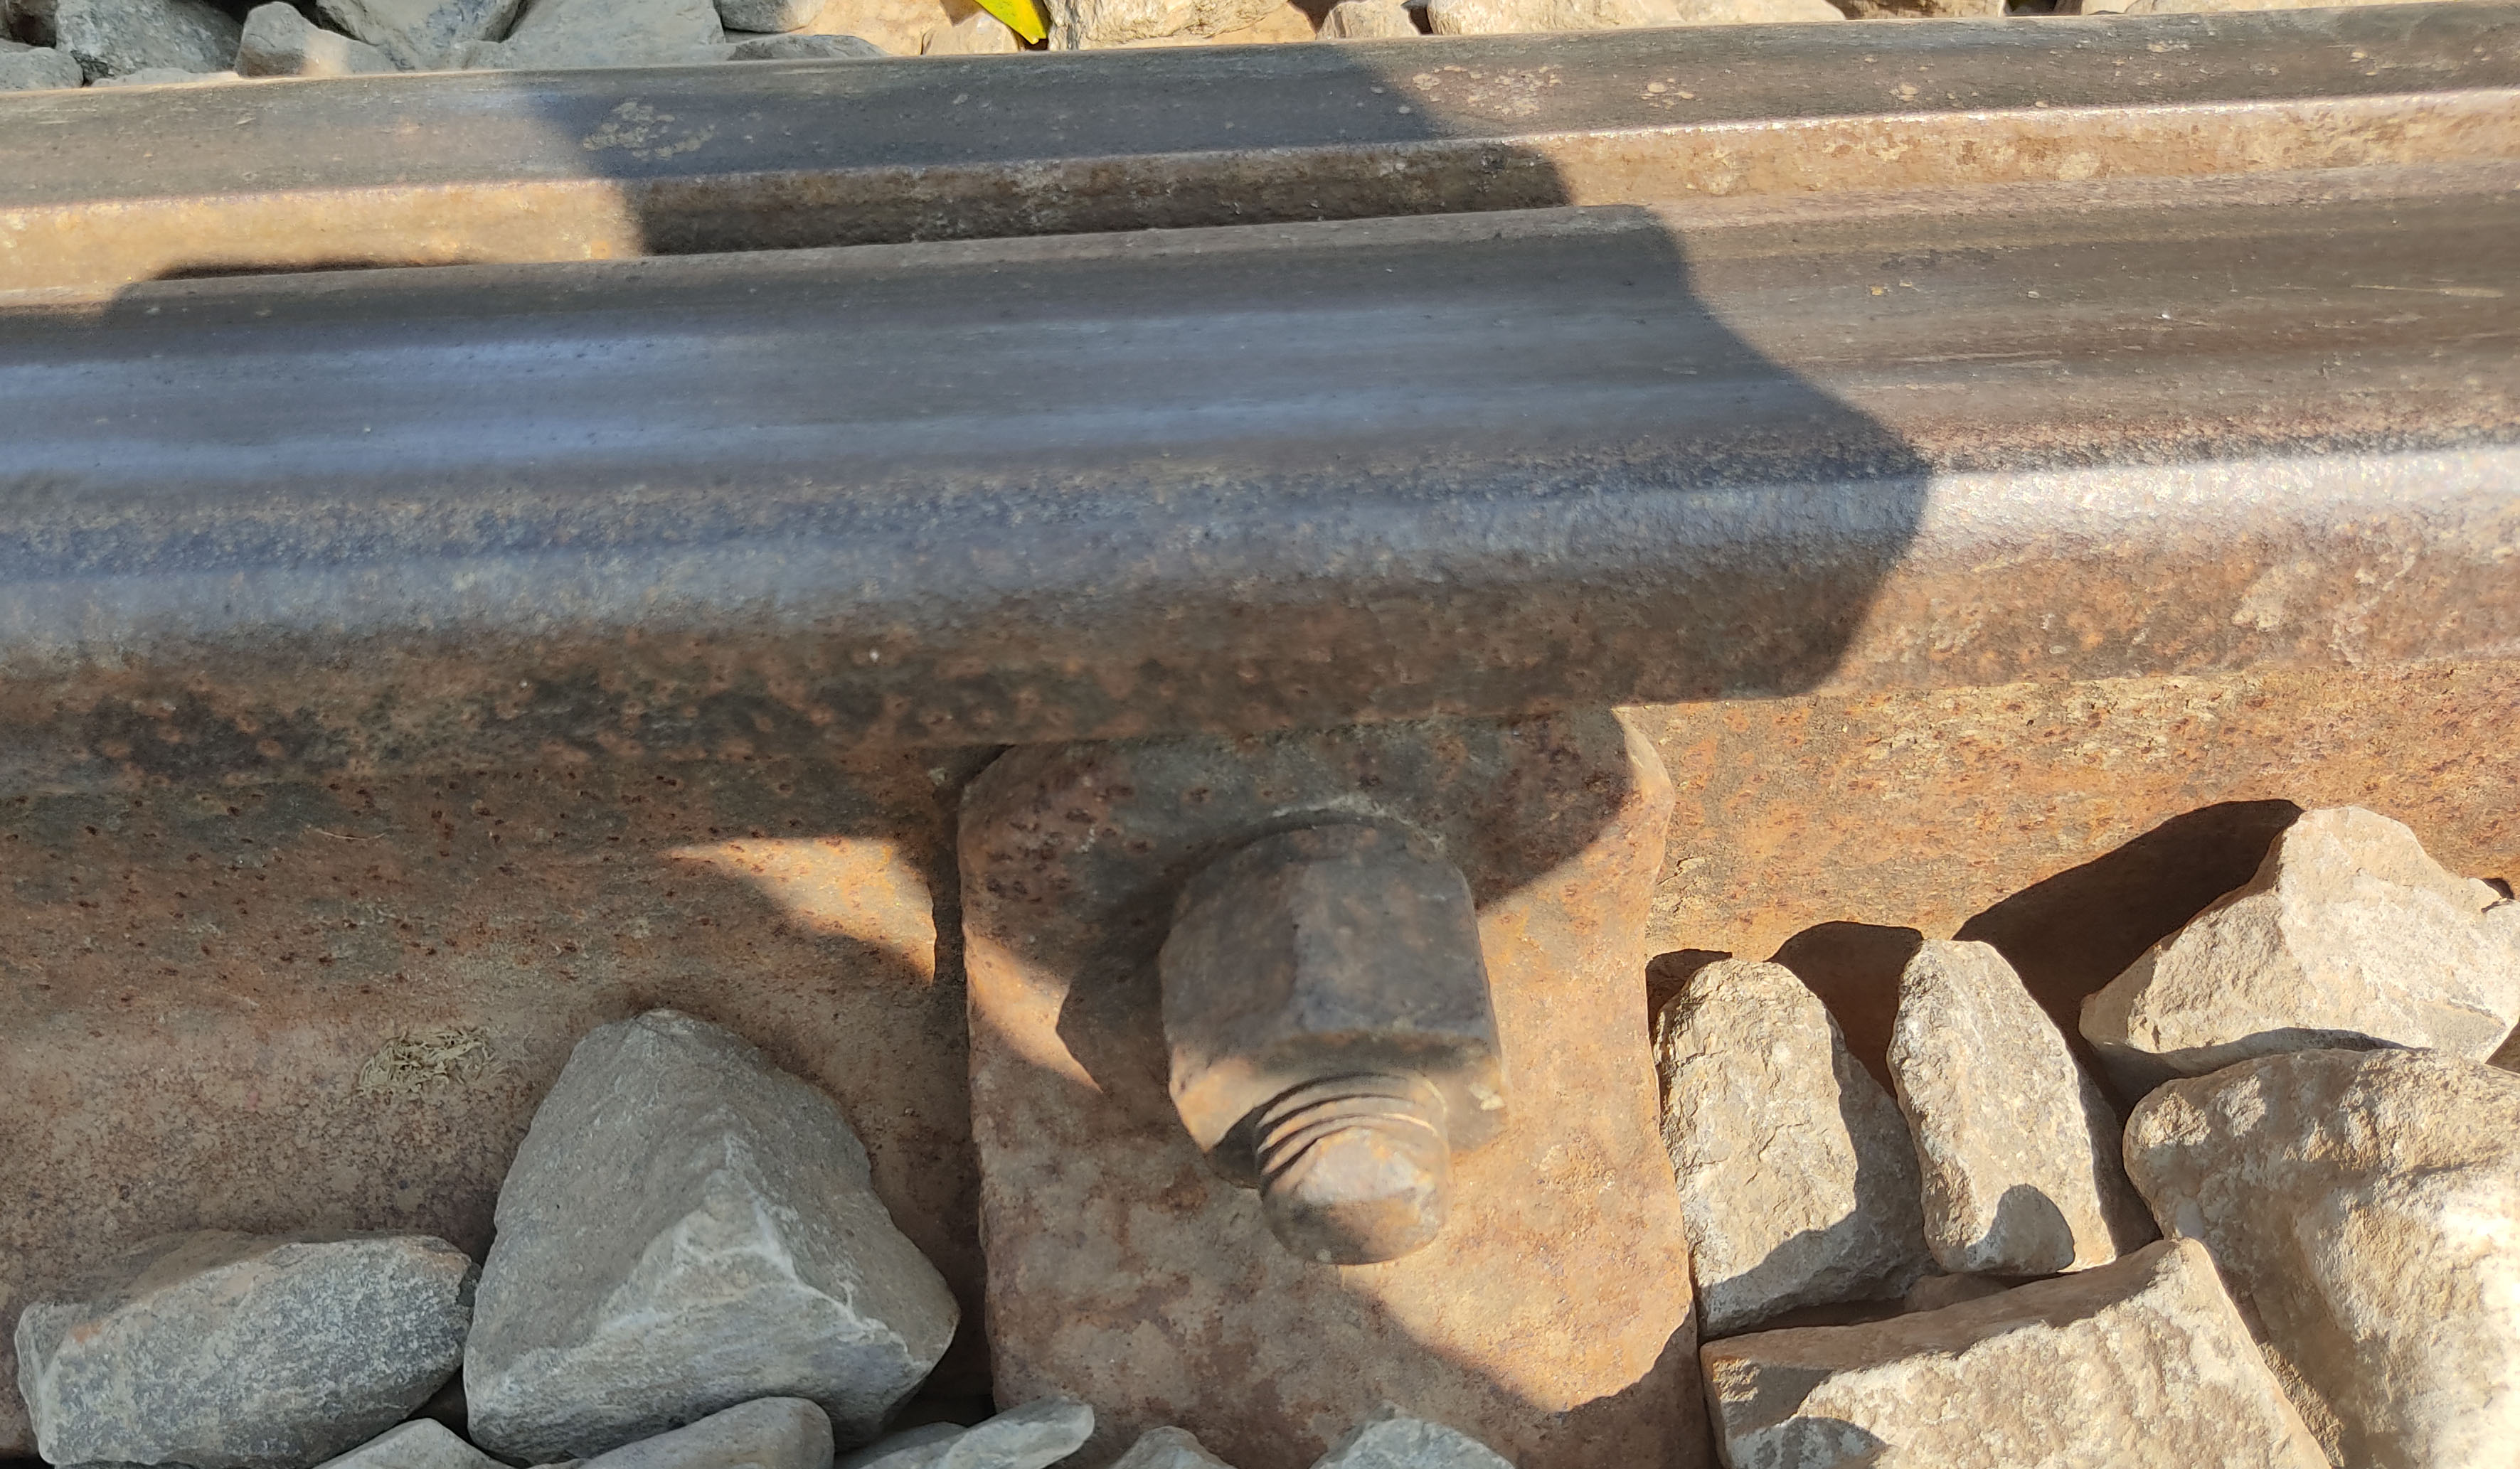error1: (958, 753, 1674, 1292)
